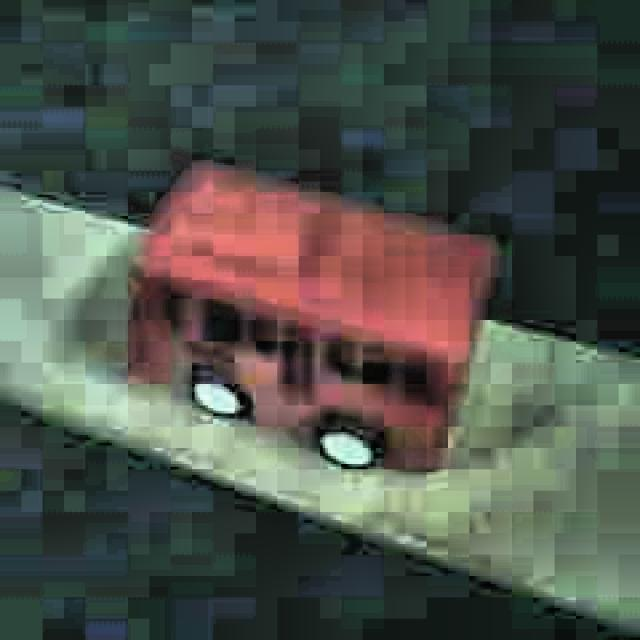bus: (123, 163, 497, 478)
